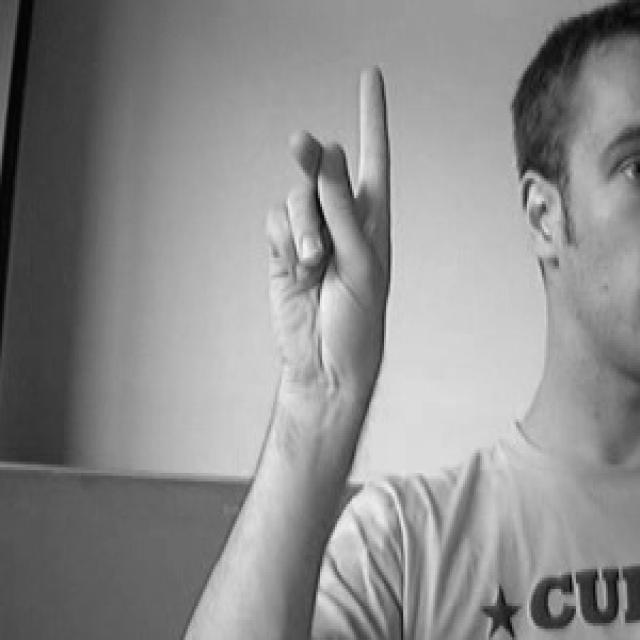K: (249, 56, 418, 411)
